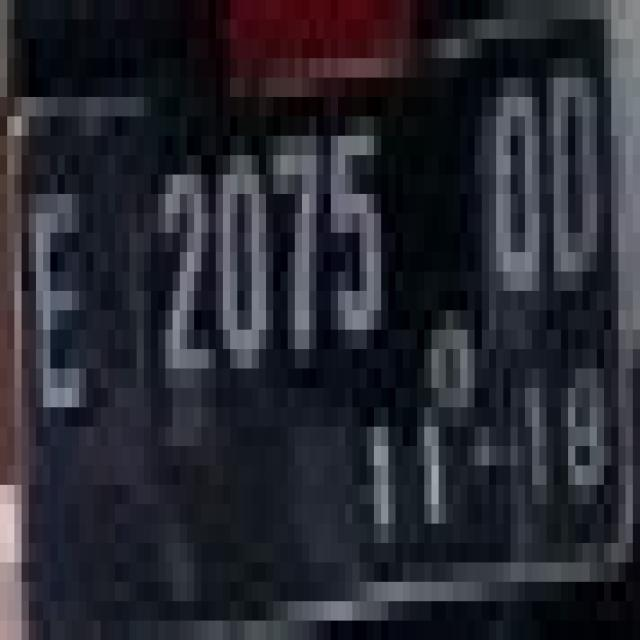plate: (0, 0, 626, 582)
